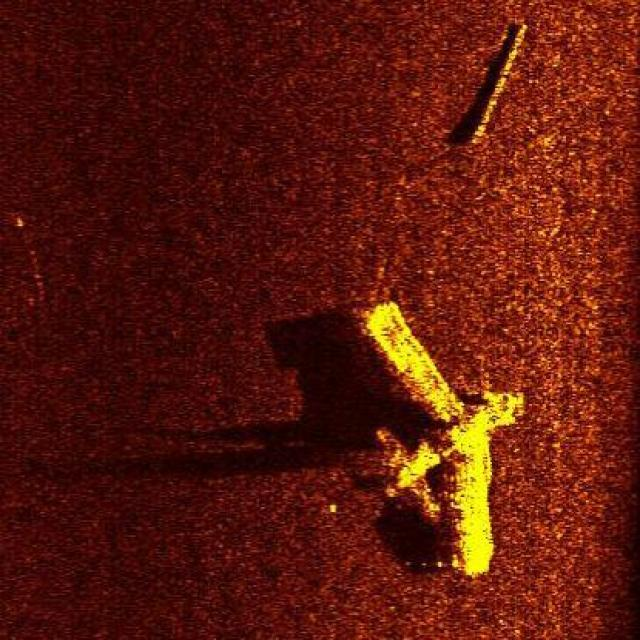plane: (344, 268, 538, 586)
